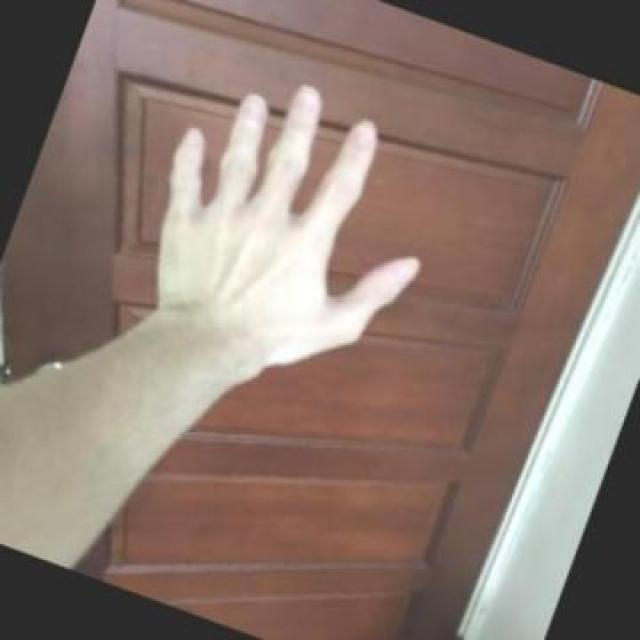no-gloves: (153, 81, 424, 387)
